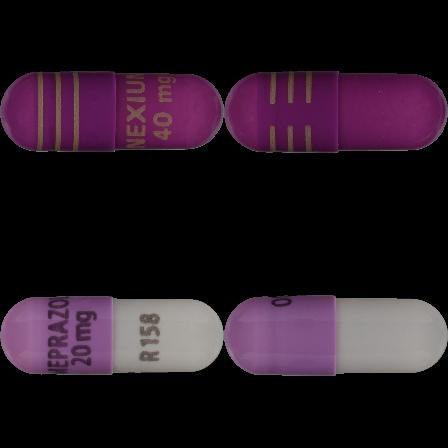50436-3121: (0, 0, 224, 224)
